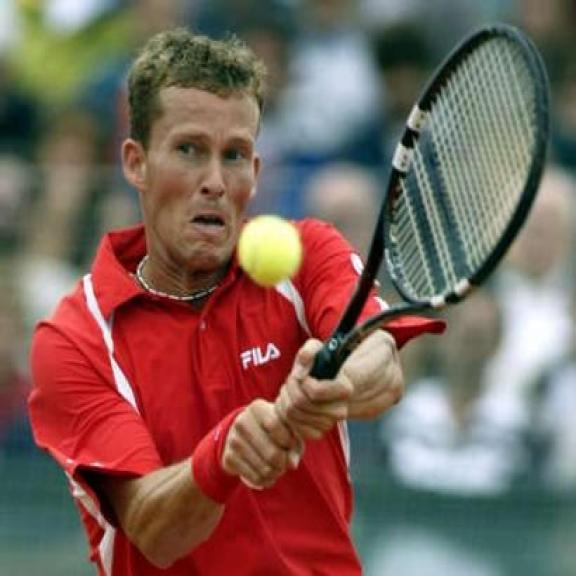face: (119, 87, 266, 269)
